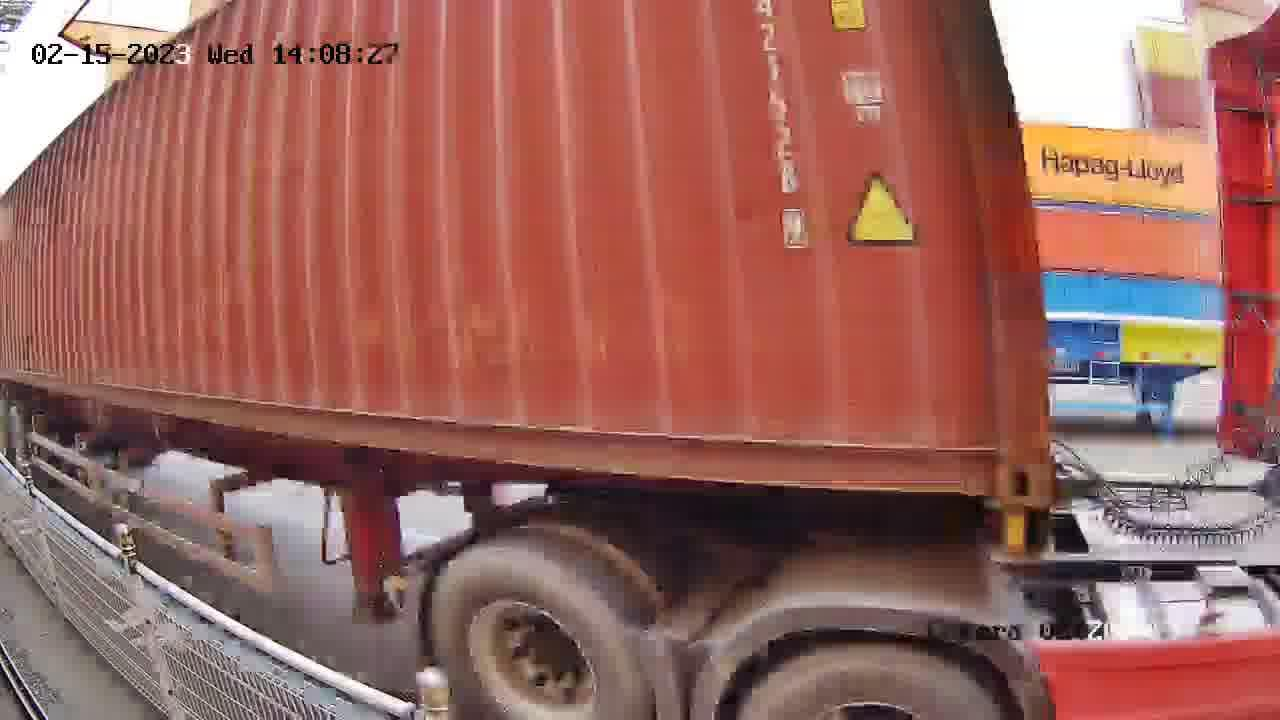Cone: (979, 501, 1053, 567)
Hole_R: (941, 383, 1057, 504)
Tire: (434, 546, 640, 717), (741, 643, 1010, 719)
